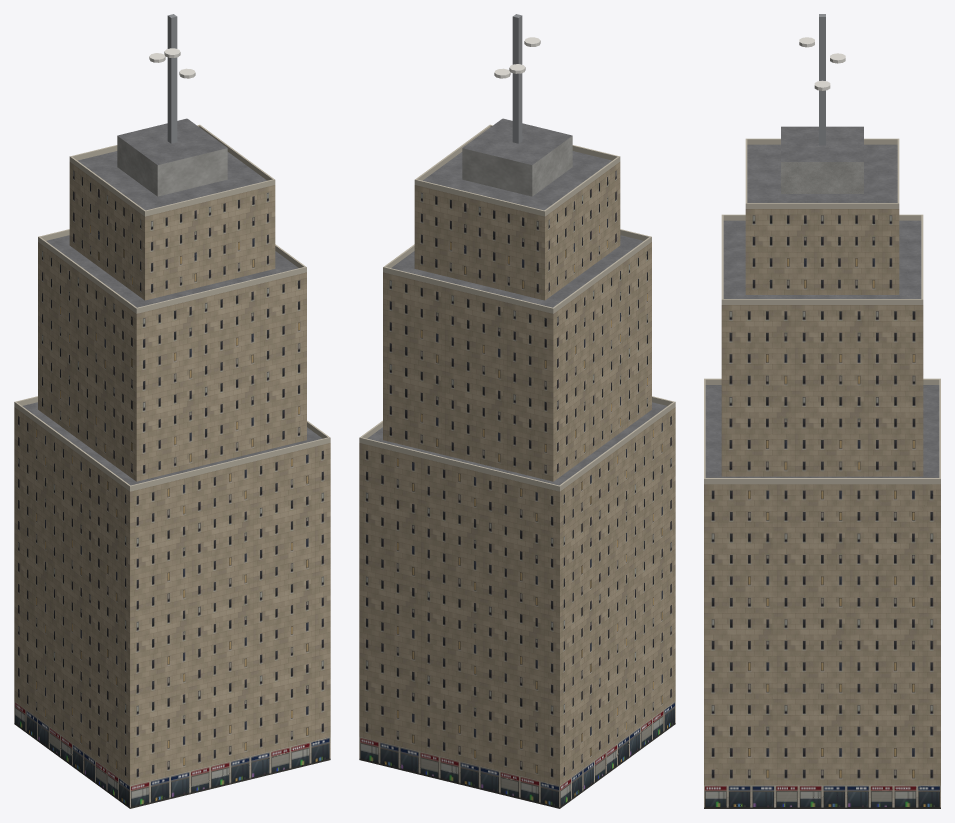
The model's file is 092_telephone_exchange.glb.
The picture shows the model from 3 angles, left to right: view 1: azimuth 30°, elevation 25°; view 2: azimuth 150°, elevation 25°; view 3: azimuth 270°, elevation 25°; orthographic projection. The views are drawn at different scales.
Visible parts, largest first — view 1: 092_telephone_exchange; view 2: 092_telephone_exchange; view 3: 092_telephone_exchange.
Part boxes in pixels (box(x1,y1,x2,y2)): 092_telephone_exchange: box(14, 14, 330, 808); 092_telephone_exchange: box(359, 14, 675, 808); 092_telephone_exchange: box(704, 14, 940, 808).
Bounding box in the file's own units: 40 × 138 × 40.
Materials: 7 (4 with a texture image).
